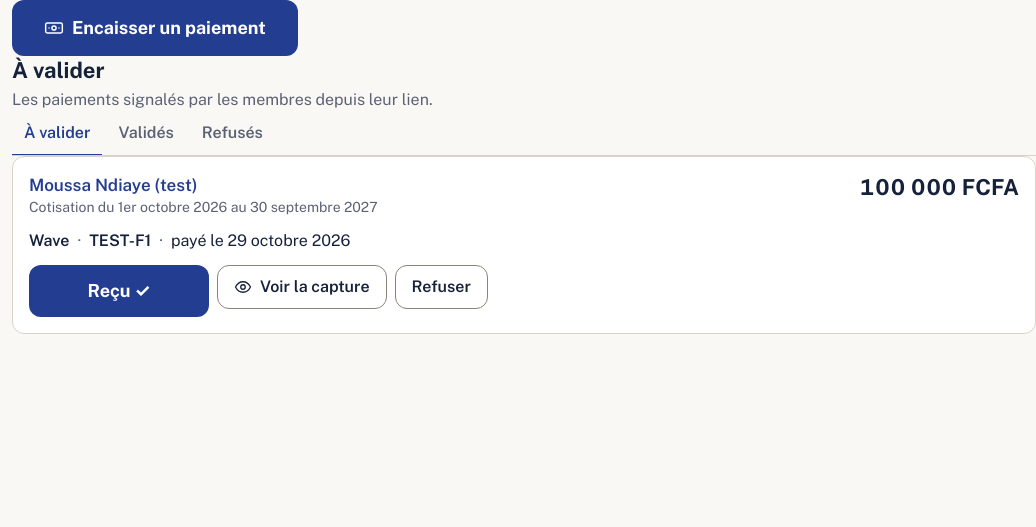
Test: B3 — « Reçu ✓ » : la confirmation légère (R9) › un refus du serveur reste dans le panneau, en français
Click the button "Reçu ✓": click(119, 291) [29,265,209,317]
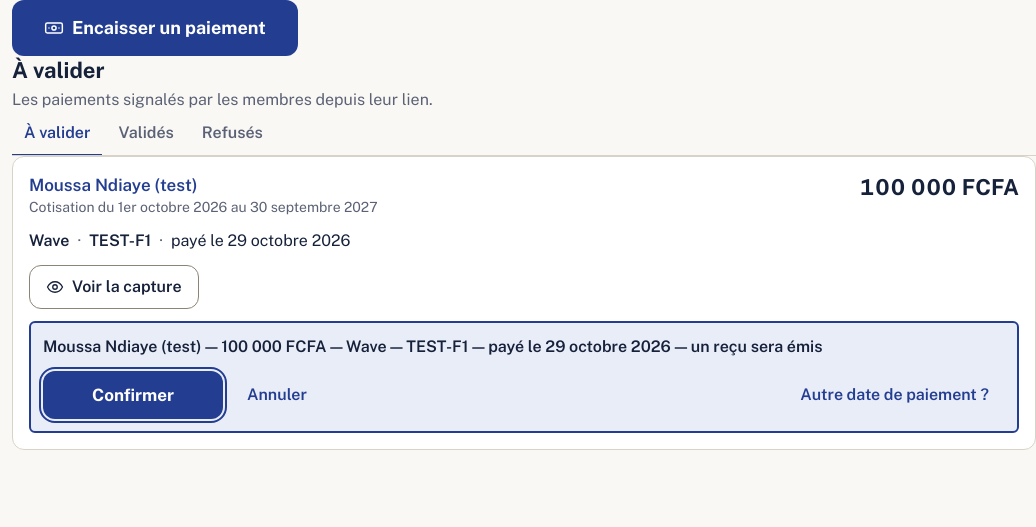
Click the button "Confirmer": click(133, 395) [43,371,223,419]
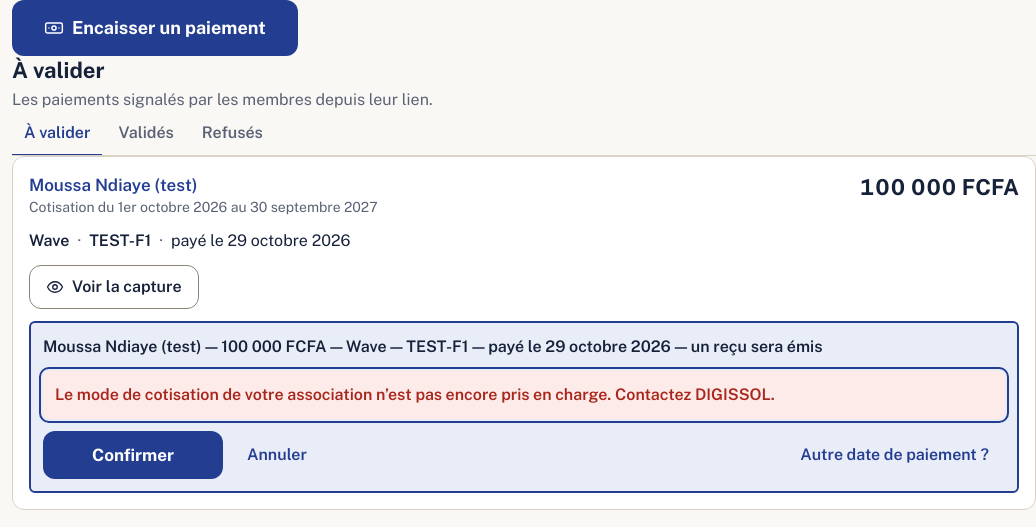
Result: the text "mode de cotisation de votre association n’est pas encore pris en charge" is shown at [55,385,775,404]
